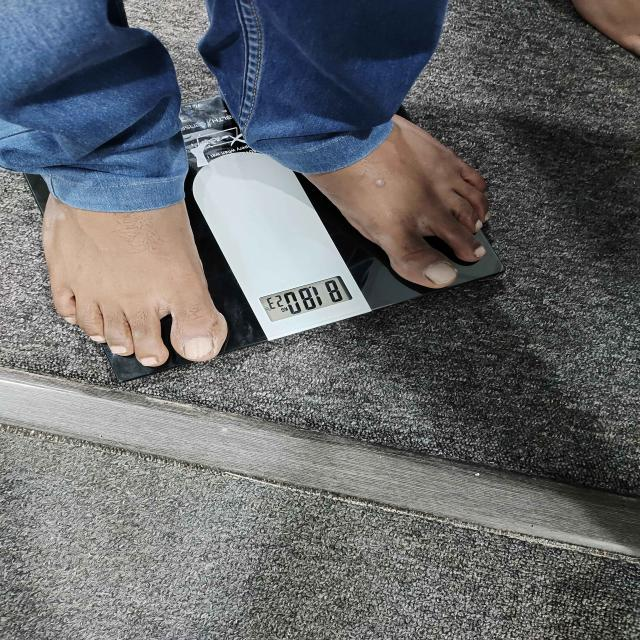ws: (189, 146, 423, 342)
